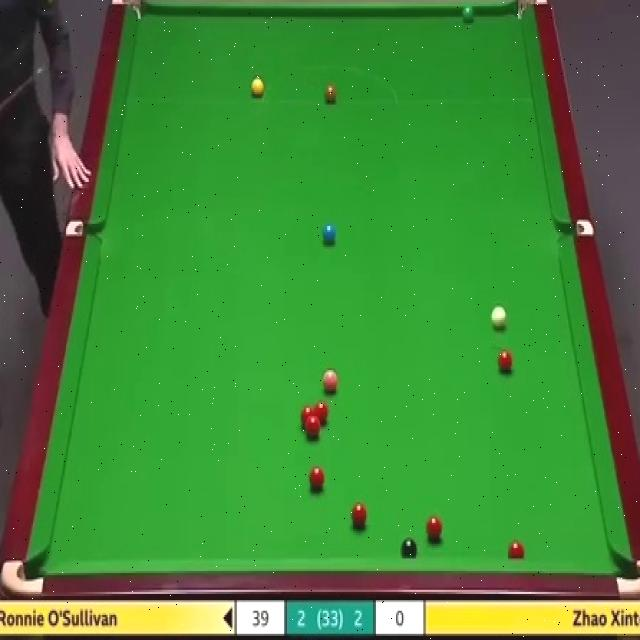black-ball: (401, 538, 418, 559)
blue-ball: (322, 221, 337, 248)
brown-ball: (324, 81, 338, 107)
green-ball: (461, 4, 475, 24)
pink-ball: (323, 366, 339, 395)
red-ball: (308, 465, 326, 493), (425, 516, 443, 542), (350, 503, 368, 528), (498, 348, 514, 375), (506, 539, 526, 559), (305, 414, 320, 437), (314, 402, 328, 421), (301, 406, 314, 422)
white-ball: (490, 304, 506, 329)
yellow-ball: (250, 75, 264, 99)
